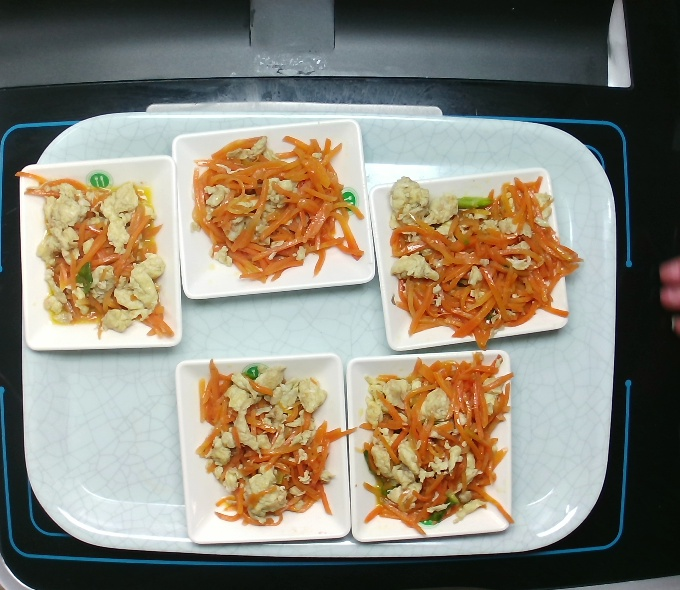wcq-HuLuoBoChaoDan: (389, 173, 565, 335), (193, 131, 365, 277), (360, 359, 505, 527), (202, 365, 334, 528), (38, 171, 168, 329)
